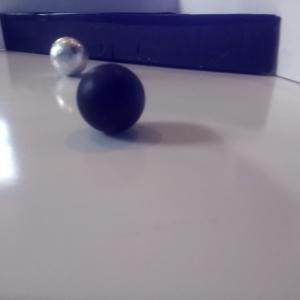zone: (1, 12, 278, 75)
